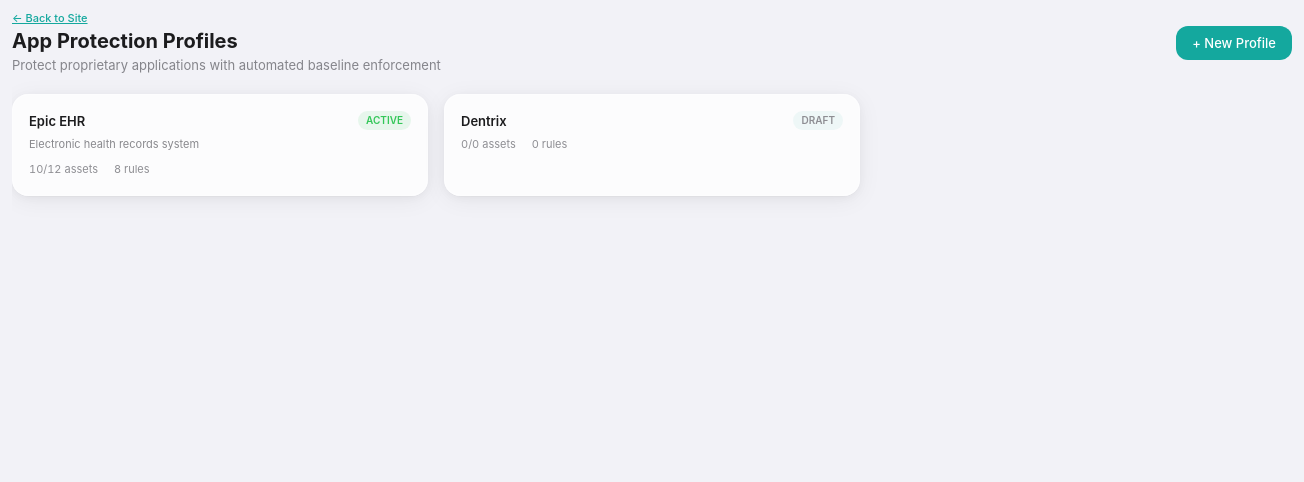
it: ProtectionProfiles › hides create form when Cancel is clicked
This screenshot has width=1304, height=482.
Click the button "+ New Profile" at (1234,43), box [1176,26,1292,60]
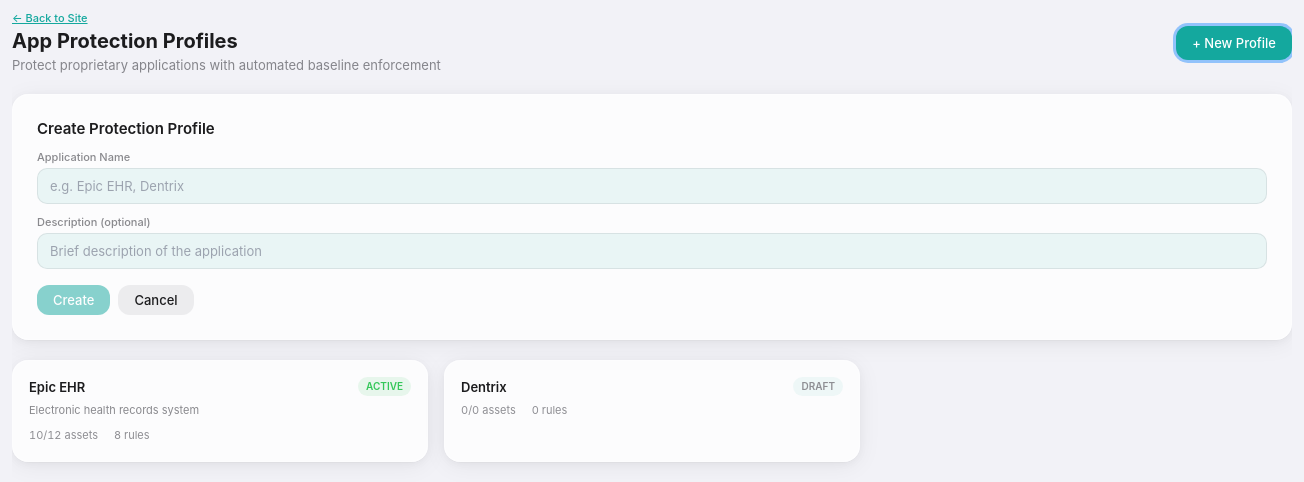
Result: the heading "Create Protection Profile" is shown at [37,119,215,138]
Click the button "Cancel" at (156,300), box [118,285,194,315]
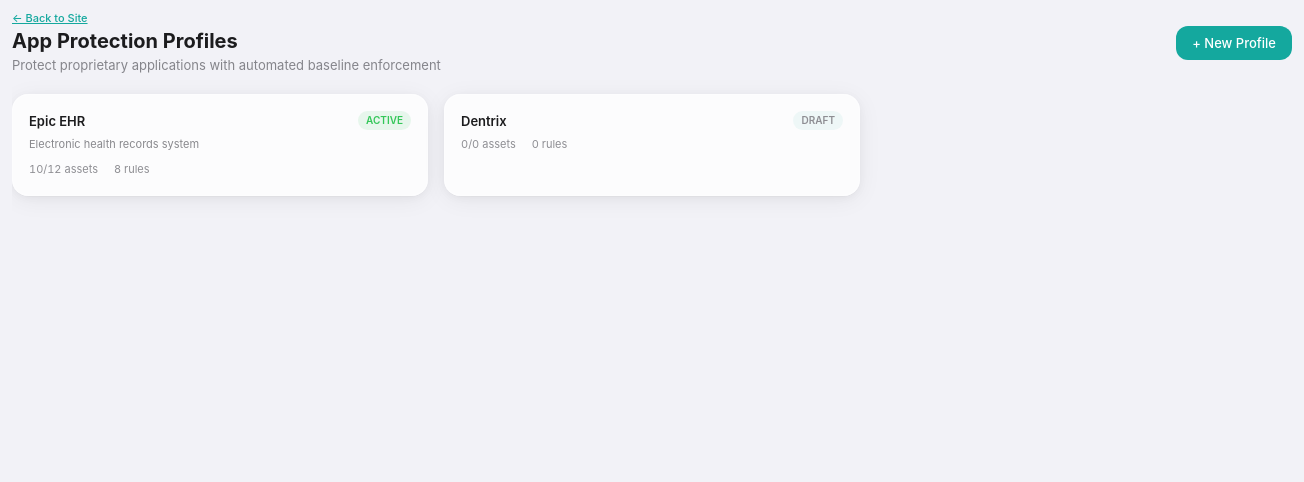
Result: the heading "Create Protection Profile" is gone
